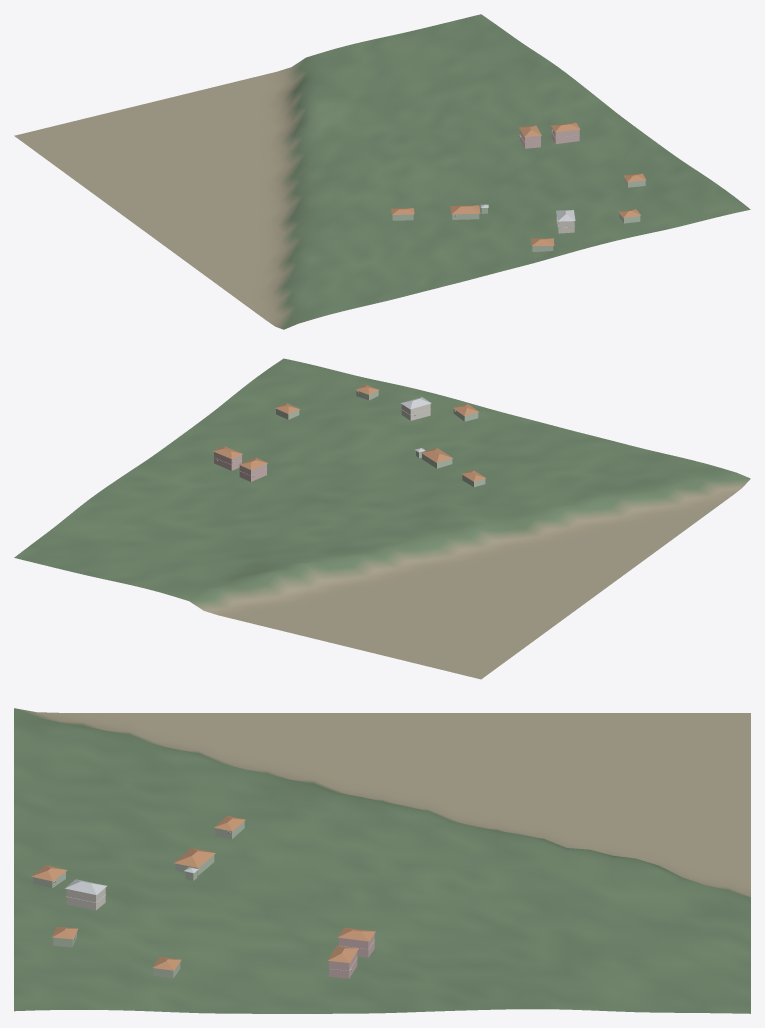
3 views of the same model, one above another, from view 1: azimuth 30°, elevation 25°; view 2: azimuth 150°, elevation 25°; view 3: azimuth 270°, elevation 25° (orthographic). The views are drawn at different scales.
Parts seen in each view (by area): view 1: Terrain-col, Buildings-col; view 2: Terrain-col, Buildings-col; view 3: Terrain-col, Buildings-col.
Boxes of the visible parts, bbox=[...] form: Terrain-col: bbox=[14, 14, 750, 329]; Buildings-col: bbox=[391, 122, 646, 251]; Terrain-col: bbox=[14, 358, 750, 679]; Buildings-col: bbox=[213, 384, 485, 487]; Terrain-col: bbox=[14, 708, 750, 1013]; Buildings-col: bbox=[31, 816, 375, 978].
Size of the model in its own units: 256 by 13.83 by 256.
